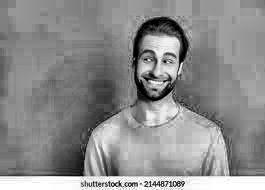happy: (131, 20, 219, 144)
